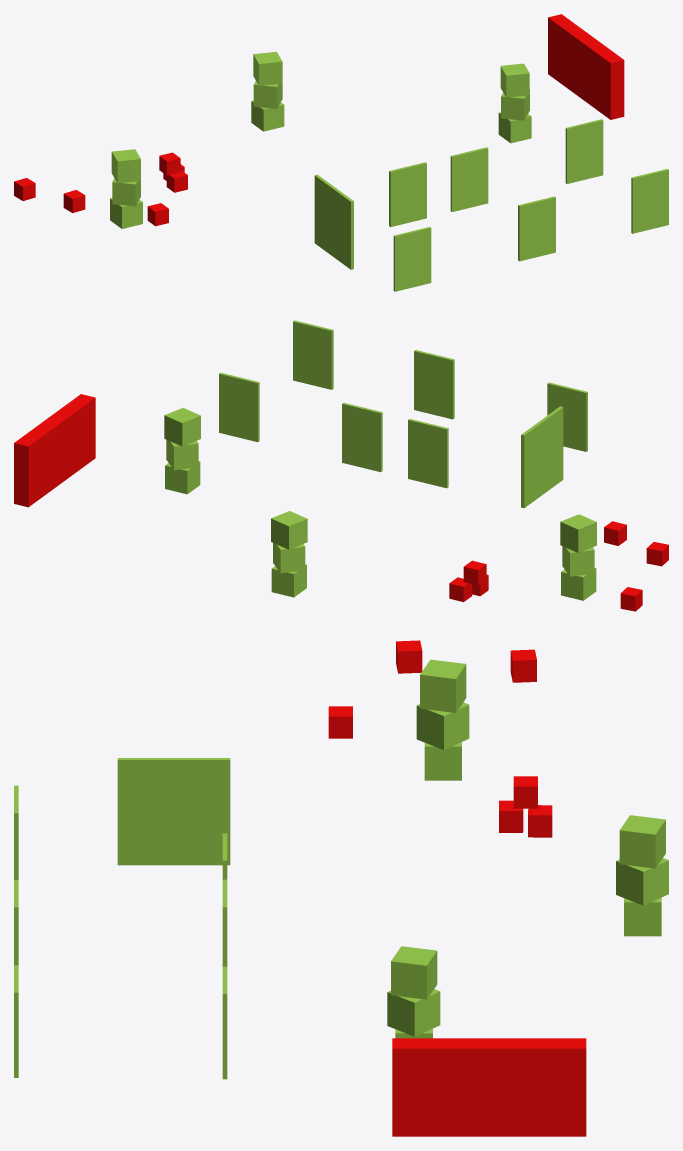
Rendered from Gruppo8_Allestimento.obj.
3 renders of one model, top to bottom at view 1: azimuth 30°, elevation 25°; view 2: azimuth 150°, elevation 25°; view 3: azimuth 270°, elevation 25°, orthographic. The views are drawn at different scales.
Bounding box in the file's own units: 322 × 37 × 209.
